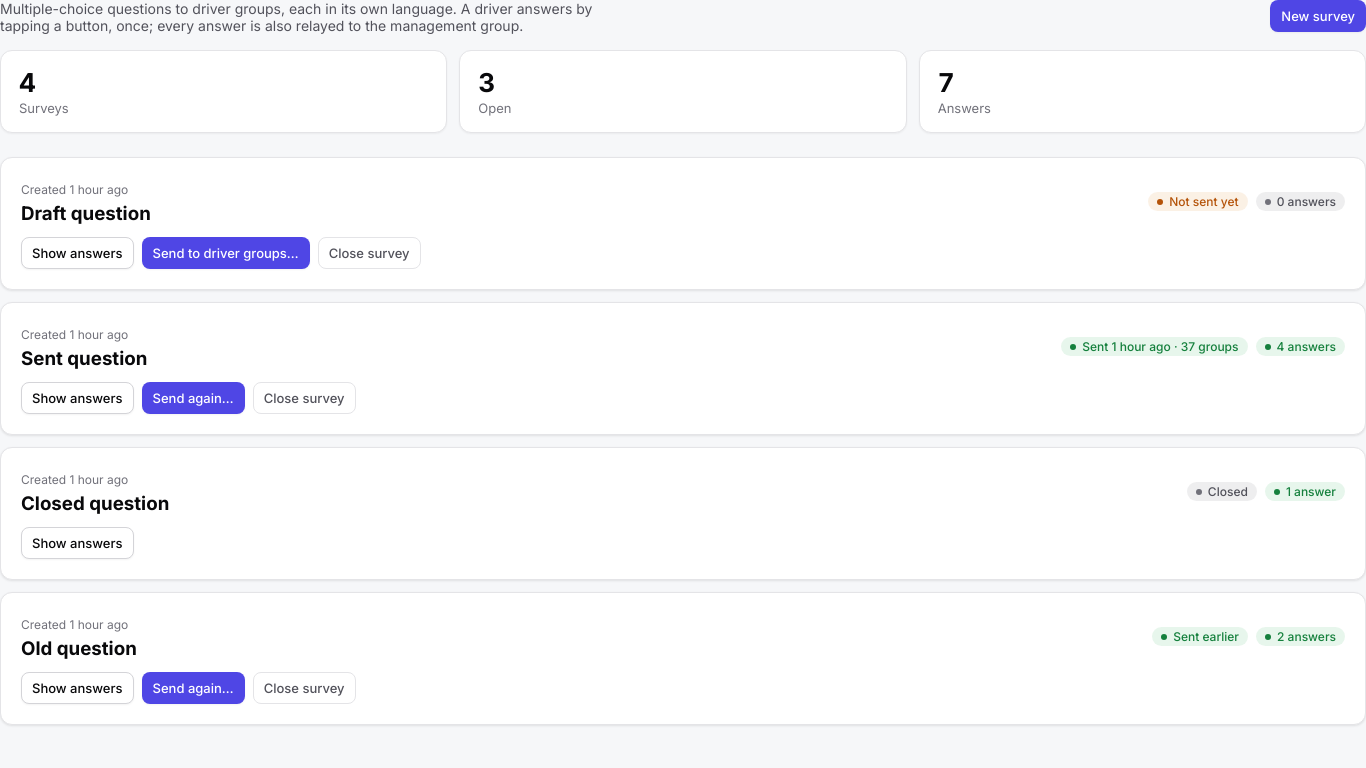
Test: with no active driver group, Send says so instead of asking
The image size is (1366, 768).
Expected: the heading "Draft question" is shown, [21,202,151,225]
Click the button "Send to driver groups…": [226, 253] box [142,237,310,269]
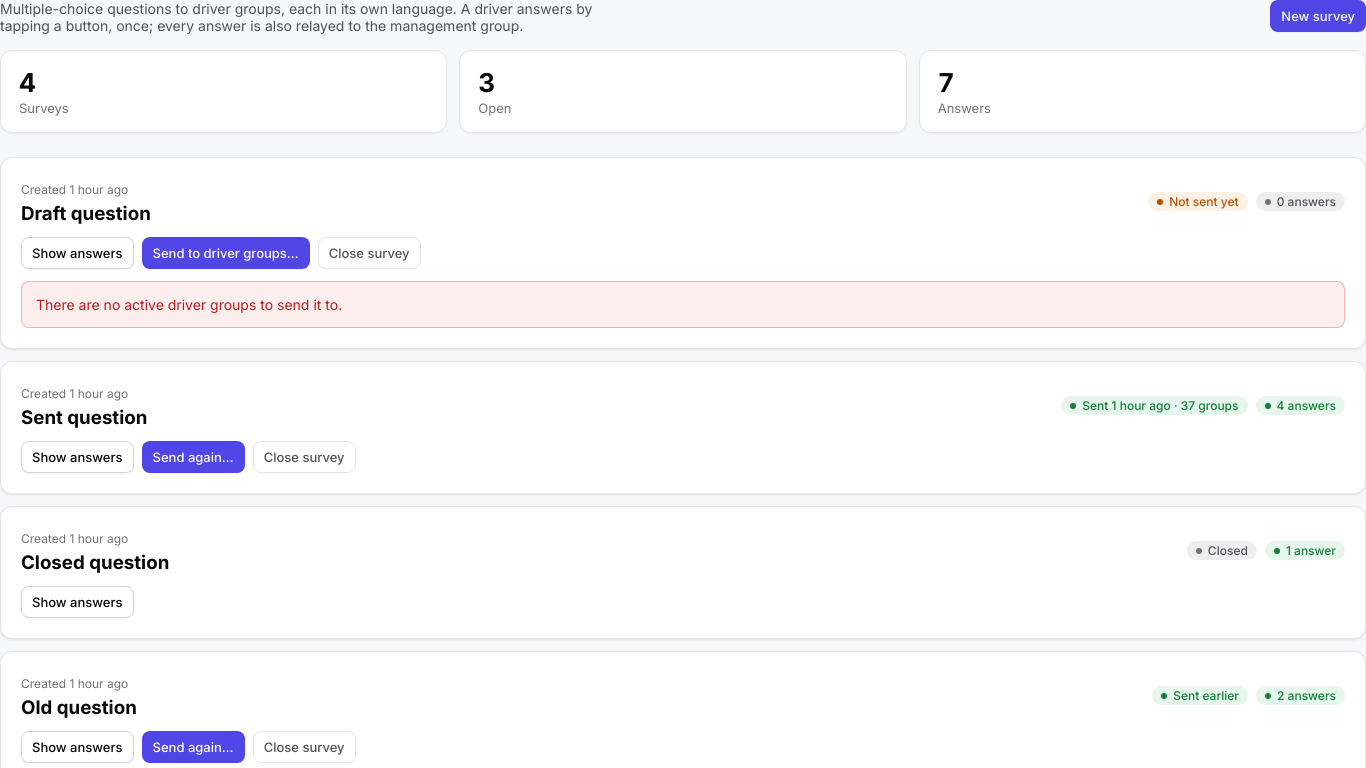
Expected: the message reads "There are no active driver groups to send it to.", [36,296,342,313]
